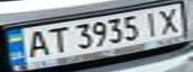3: (72, 20, 93, 51), (106, 16, 127, 44)
5: (121, 12, 145, 42)
9: (90, 18, 112, 47)
A: (21, 28, 54, 58)
I: (139, 9, 163, 37)
T: (42, 24, 69, 54)
X: (154, 6, 184, 35)
